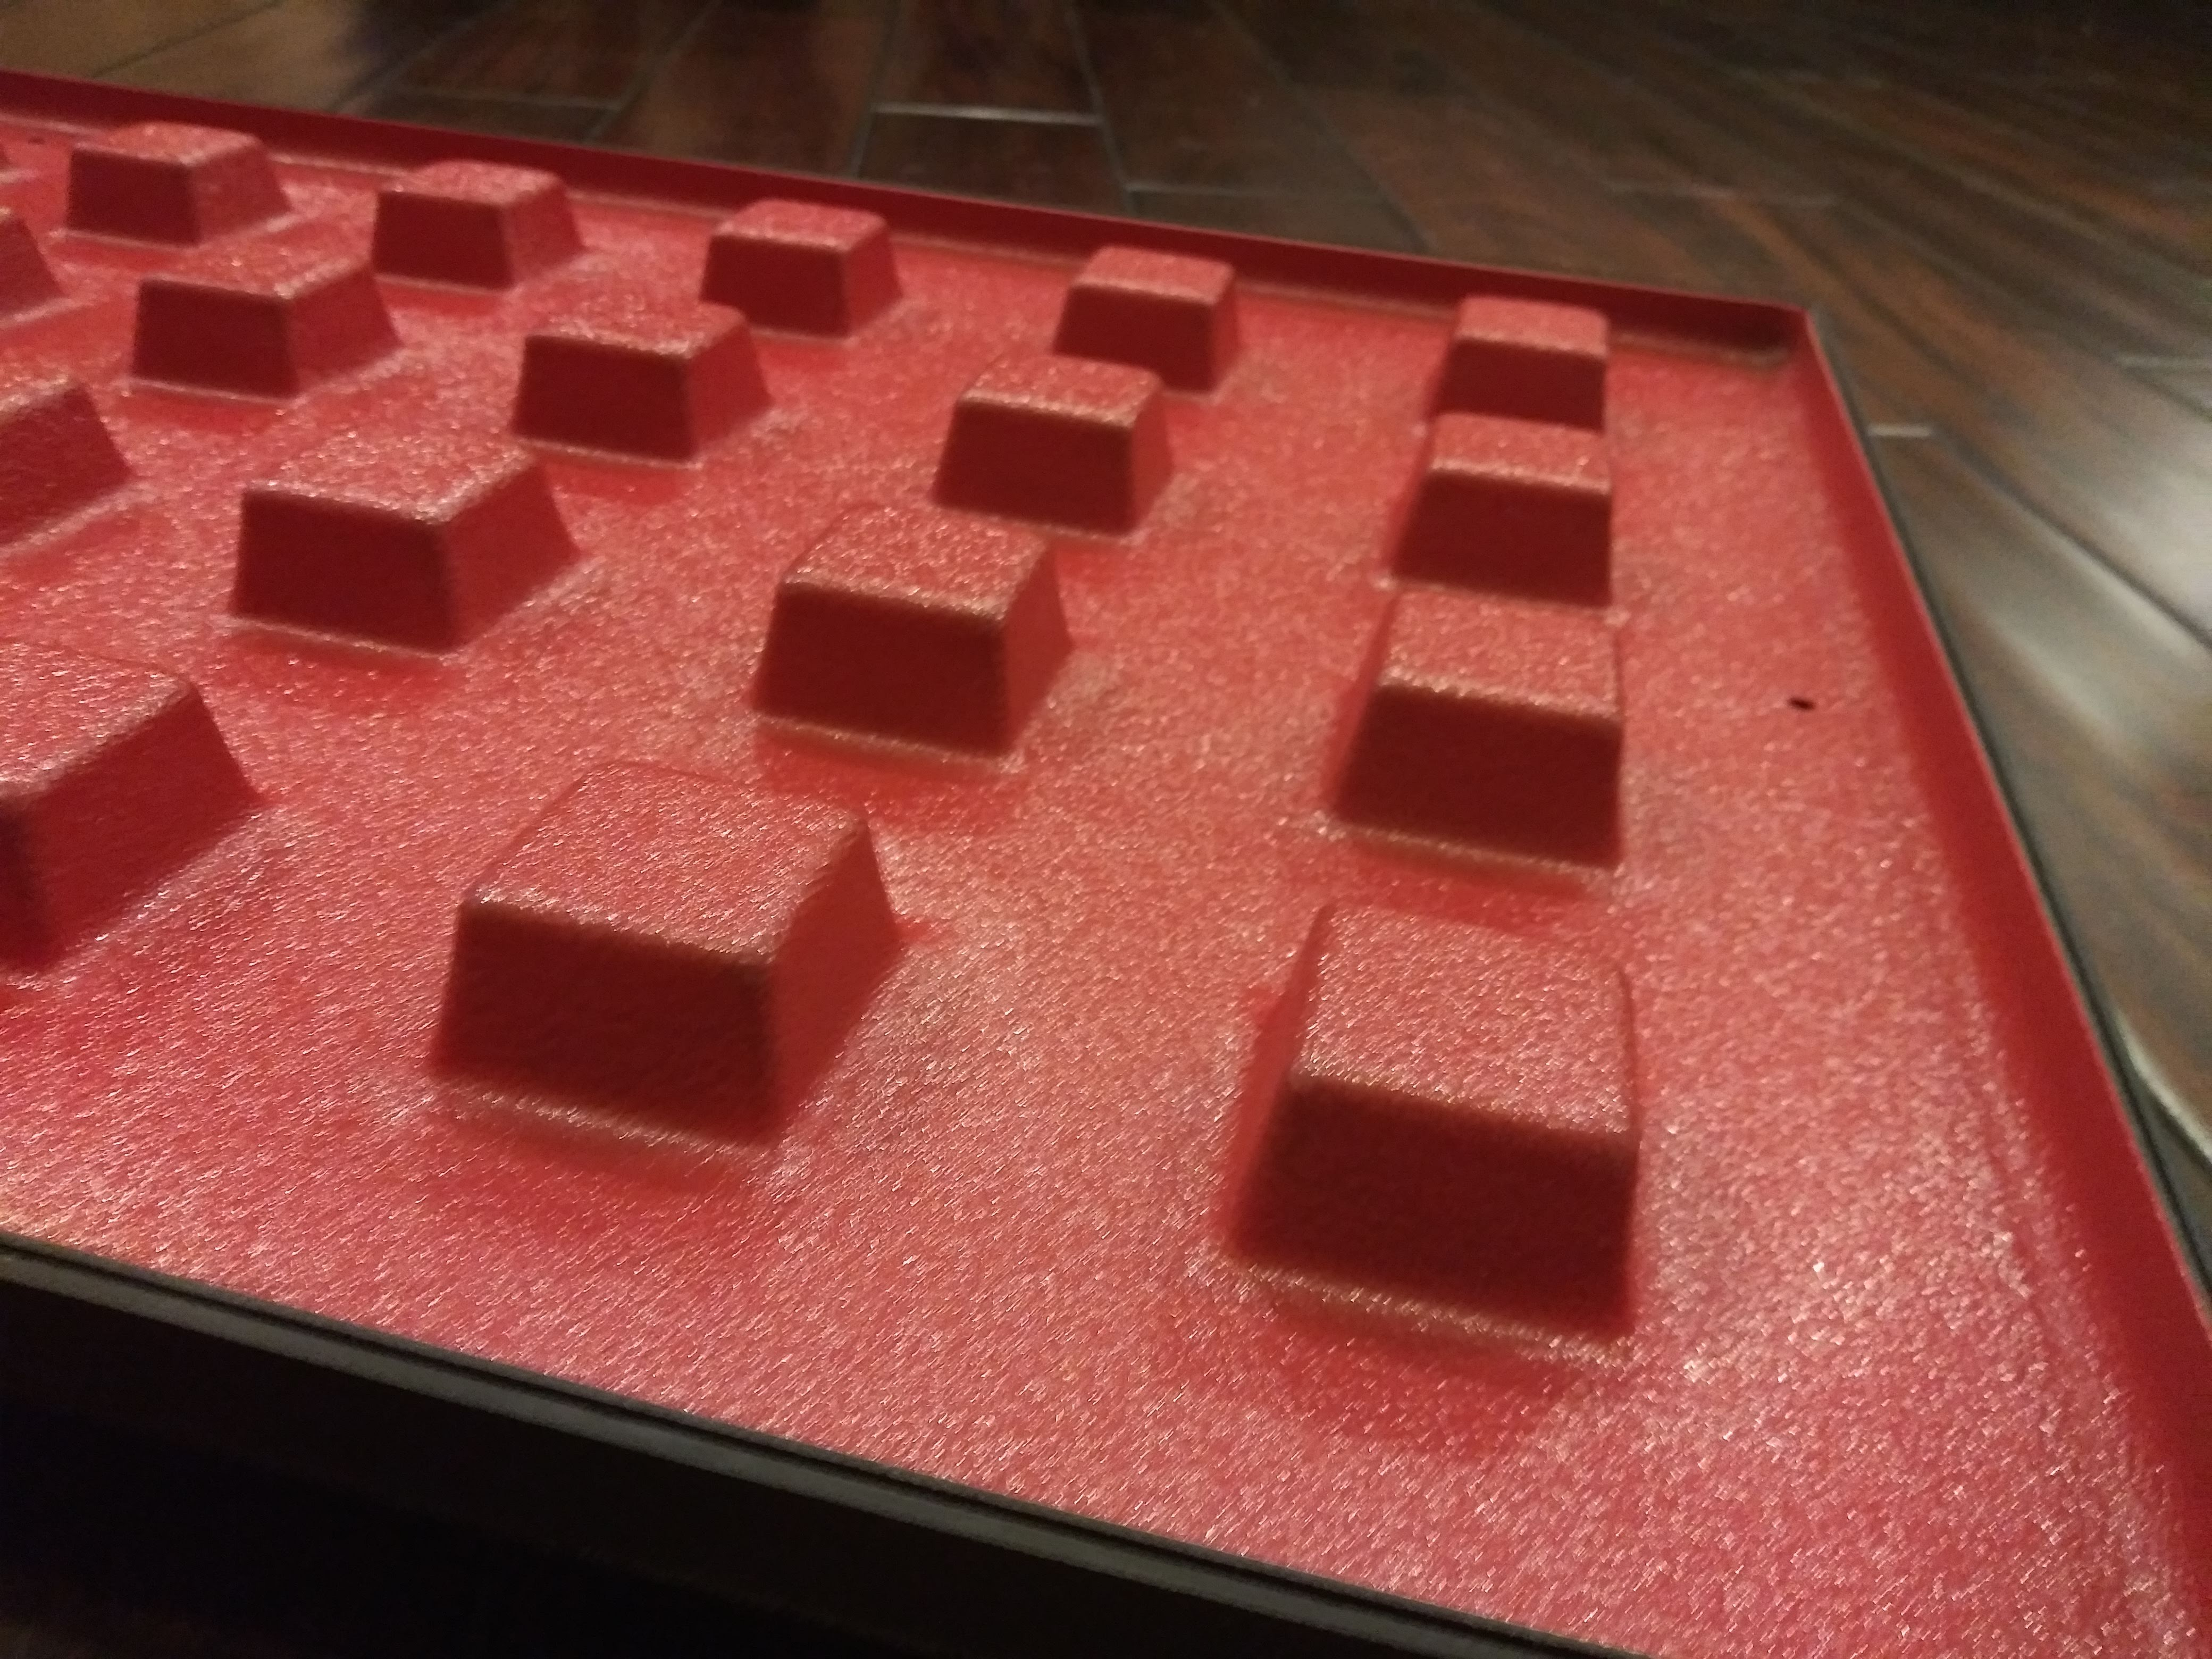red foundation: (44, 73, 2048, 1582)
